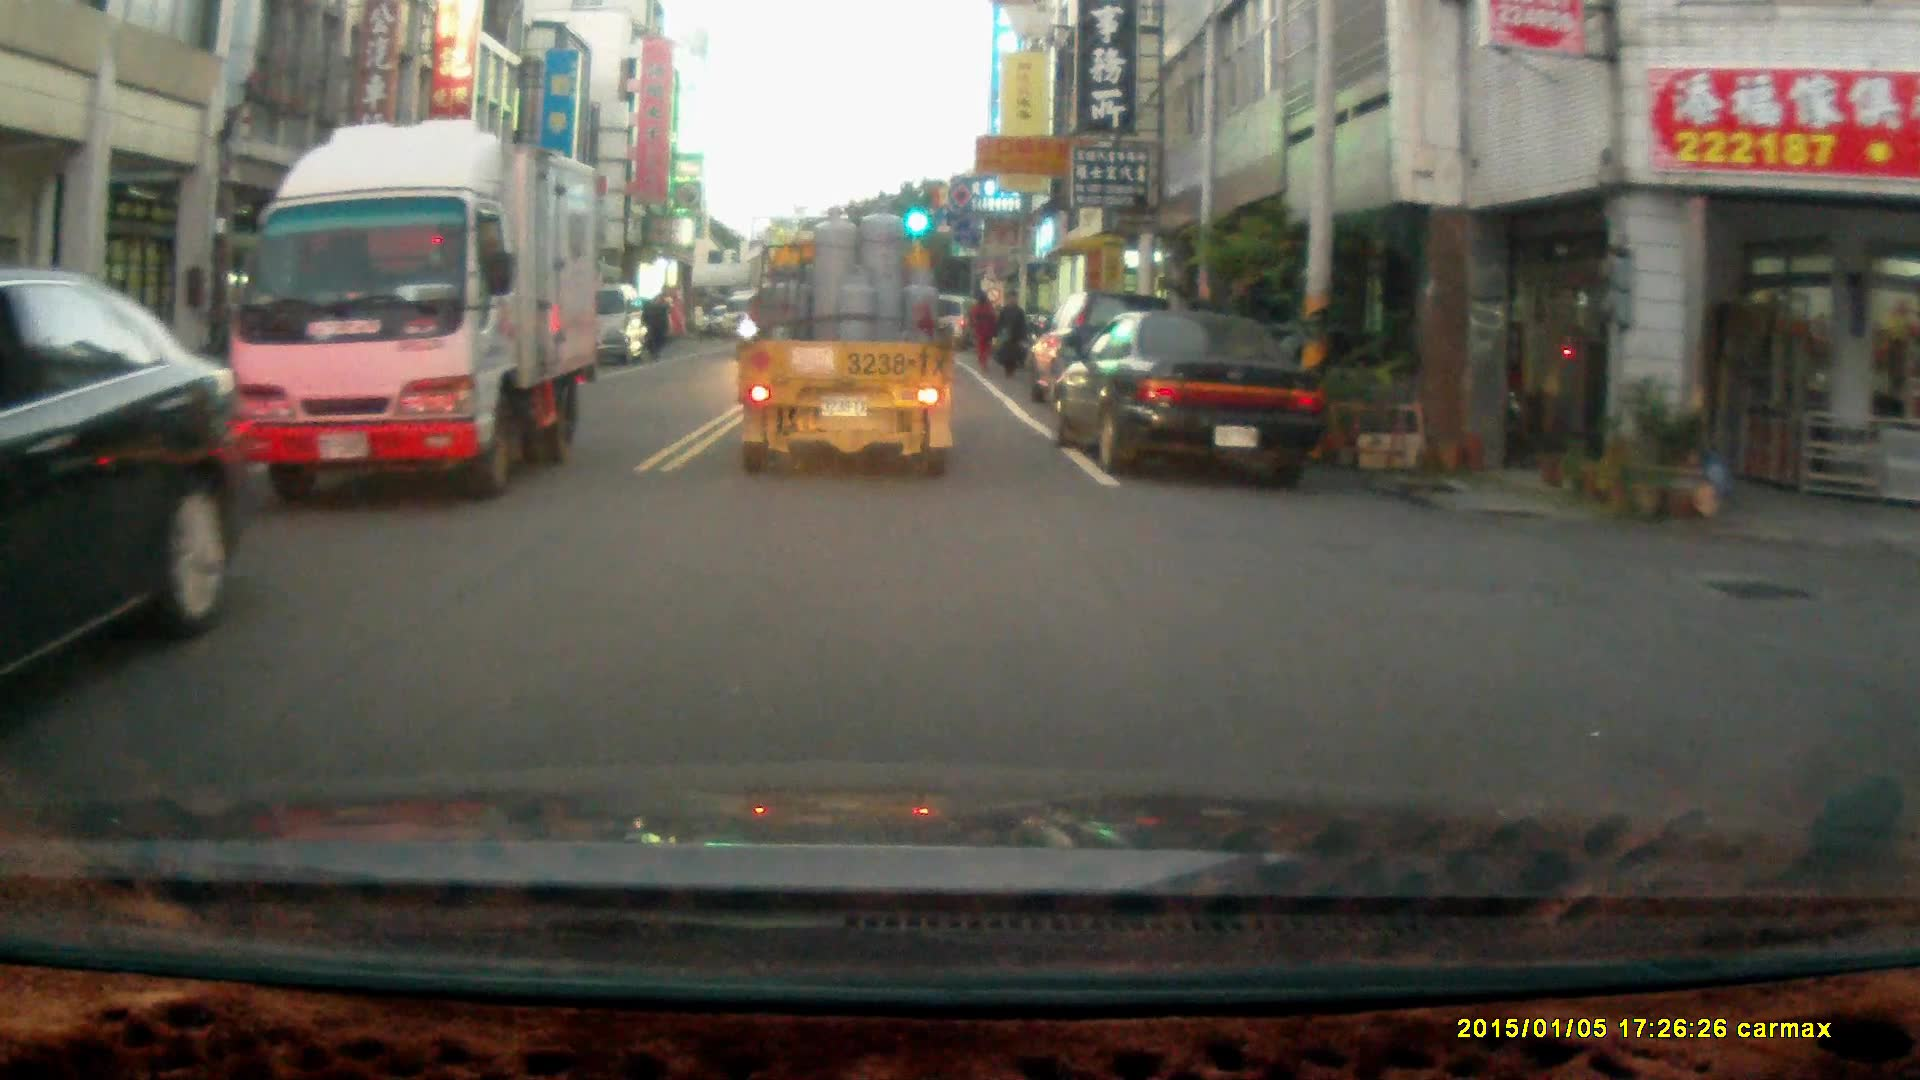pedestrian: (991, 290, 1025, 382), (963, 287, 996, 367), (638, 294, 668, 362)
vehicle: (228, 122, 602, 508), (1, 265, 254, 686), (730, 192, 964, 482), (1054, 308, 1327, 482), (581, 277, 645, 365)
